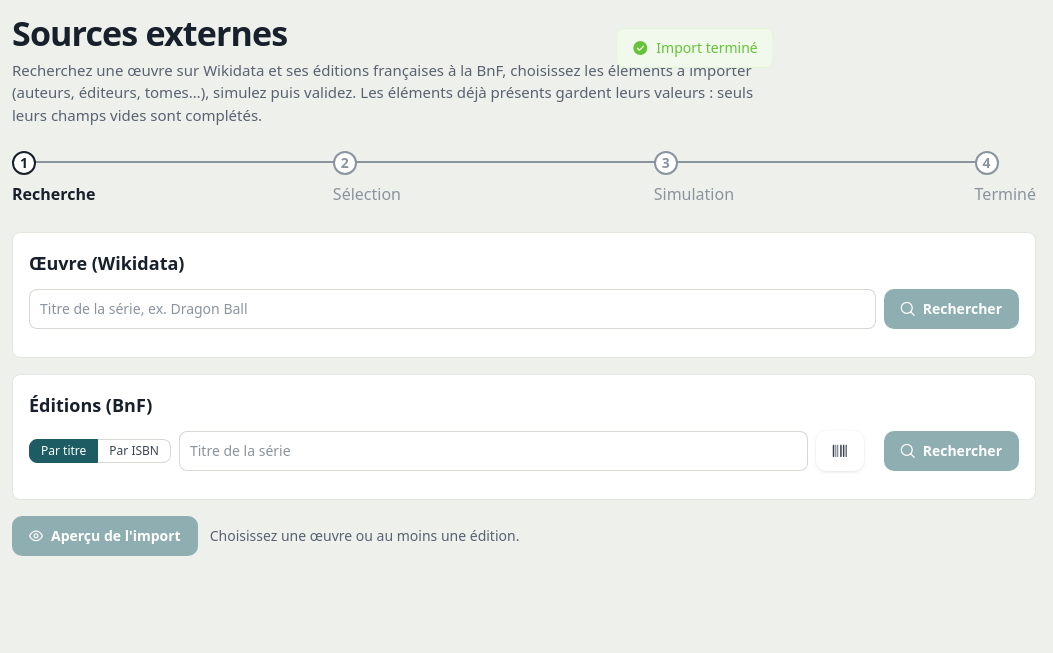
Test case: ExternalImportView › par ISBN : affiche le tome trouvé dans son édition
This screenshot has width=1053, height=653.
Click the radio button labelled "Par ISBN" at (135, 451), box [98,439,171,463]
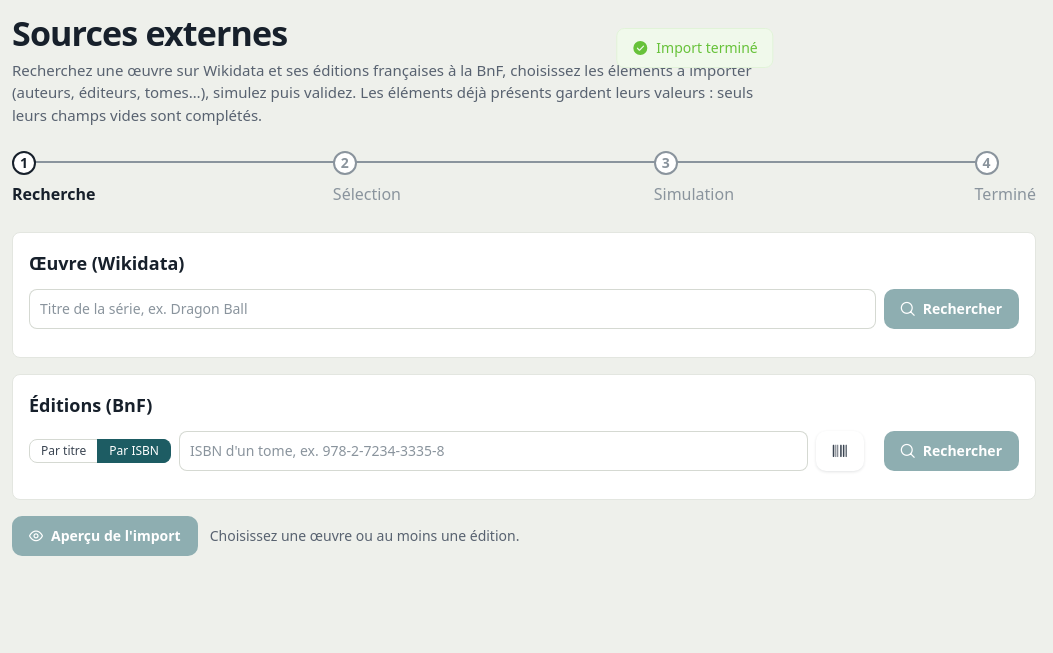
Type "978-2-87695-205-8" into the field with placeholder "ISBN d'un tome, ex. 978-2-7234-3335-8" at (493, 451), box [190,432,797,470]
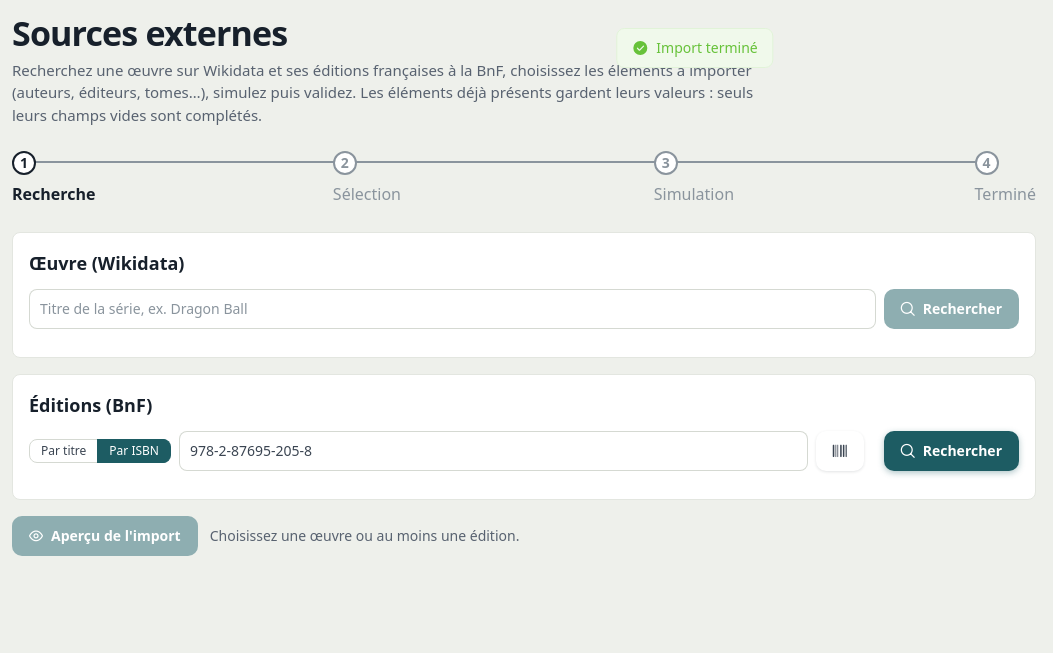
Submit the form "Par titre Par ISBN Rechercher", box [29,431,1019,471]
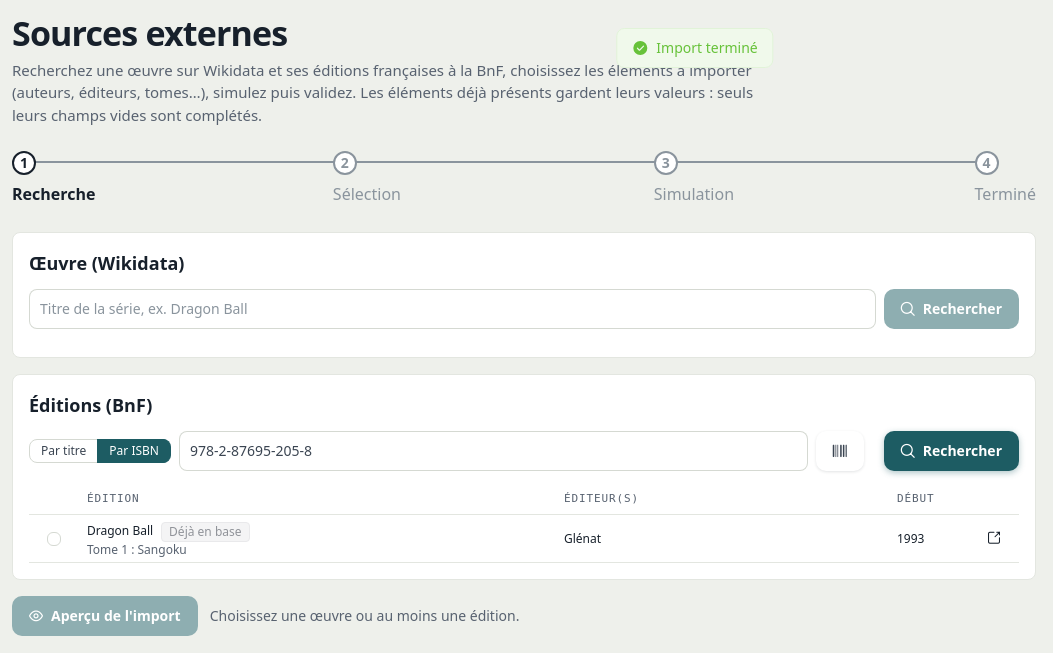
expect the element with test id "edition-hits" shows "Tome 1 : Sangoku": met, box [87,541,187,558]
expect the element with test id "edition-hits" shows "Déjà en base": met, box [169,523,242,540]
